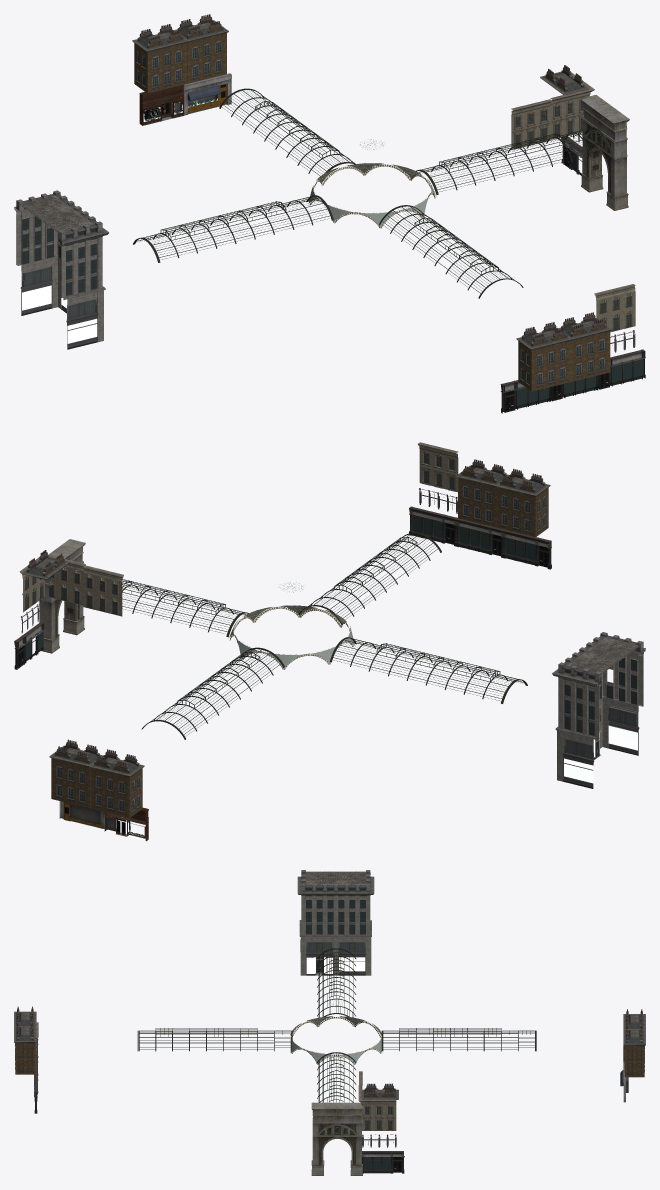
The picture shows the model from 3 angles, top to bottom: view 1: azimuth 30°, elevation 25°; view 2: azimuth 150°, elevation 25°; view 3: azimuth 270°, elevation 25°; orthographic projection. The views are drawn at different scales.
Visible parts, largest first — view 1: LOD_1_Group_0_Sub_1__sm0012_arcadegate01_A_Mat, LOD_1_Group_0_Sub_1__building_new_02.002, LOD_1_Group_0_Sub_1__buildingBrick01_B.002, LOD_1_Group_0_Sub_1__buildingBrick01_B, LOD_1_Group_0_Sub_1__building_new_02, LOD_1_Group_0_Sub_2__glass.006, LOD_1_Group_0_Sub_2__glass.003, LOD_1_Group_0_Sub_1__buildingBrick01_B.001, LOD_1_Group_0_Sub_1__buildingBrick01_B.003, LOD_1_Group_0_Sub_2__glass.014, LOD_1_Group_0_Sub_2__glass.011, LOD_1_Group_0_Sub_1__building_new_02.001 (+14 smaller); view 2: LOD_1_Group_0_Sub_1__building_new_02.002, LOD_1_Group_0_Sub_1__buildingBrick01_B, LOD_1_Group_0_Sub_1__buildingBrick01_B.002, LOD_1_Group_0_Sub_1__building_new_02, LOD_1_Group_0_Sub_2__glass.006, LOD_1_Group_0_Sub_1__buildingBrick01_B.001, LOD_1_Group_0_Sub_1__buildingBrick01_B.003, LOD_1_Group_0_Sub_1__sm0012_arcadegate01_A_Mat, LOD_1_Group_0_Sub_2__glass.011, LOD_1_Group_0_Sub_1__sm0007_buildingOld01_D_Mat, LOD_1_Group_0_Sub_2__glass.014, LOD_1_Group_0_Sub_1__sm0007_buildingOld01_D_Mat.001 (+14 smaller); view 3: LOD_1_Group_0_Sub_1__sm0012_arcadegate01_A_Mat, LOD_1_Group_0_Sub_1__building_new_02.002, LOD_1_Group_0_Sub_1__building_new_02, LOD_1_Group_0_Sub_2__glass.011, LOD_1_Group_0_Sub_2__glass.014, LOD_1_Group_0_Sub_1__building_new_02.001, LOD_1_Group_0_Sub_2__glass.006, LOD_1_Group_0_Sub_1__sm0007_buildingOld01_D_Mat.001, LOD_1_Group_0_Sub_1__buildingBrick01_B.001, LOD_1_Group_0_Sub_1__buildingBrick01_B.003, LOD_1_Group_0_Sub_2__glass.003, LOD_1_Group_0_Sub_2__sm0010_arcaderoof_A_Mat (+5 smaller).
Boxes of the visible parts, <box> form: LOD_1_Group_0_Sub_1__sm0012_arcadegate01_A_Mat: <box>581,94,629,210</box>; LOD_1_Group_0_Sub_1__building_new_02.002: <box>16,211,103,342</box>; LOD_1_Group_0_Sub_1__buildingBrick01_B.002: <box>516,322,572,391</box>; LOD_1_Group_0_Sub_1__buildingBrick01_B: <box>132,24,188,93</box>; LOD_1_Group_0_Sub_1__building_new_02: <box>20,208,98,323</box>; LOD_1_Group_0_Sub_2__glass.006: <box>133,200,313,262</box>; LOD_1_Group_0_Sub_2__glass.003: <box>416,132,591,195</box>; LOD_1_Group_0_Sub_1__buildingBrick01_B.001: <box>174,14,228,83</box>; LOD_1_Group_0_Sub_1__buildingBrick01_B.003: <box>558,312,612,381</box>; LOD_1_Group_0_Sub_2__glass.014: <box>390,214,523,298</box>; LOD_1_Group_0_Sub_2__glass.011: <box>231,97,355,176</box>; LOD_1_Group_0_Sub_1__building_new_02.001: <box>14,190,109,299</box>; LOD_1_Group_0_Sub_1__building_new_02.002: <box>557,652,643,781</box>; LOD_1_Group_0_Sub_1__buildingBrick01_B: <box>89,749,144,817</box>; LOD_1_Group_0_Sub_1__buildingBrick01_B.002: <box>495,468,550,536</box>; LOD_1_Group_0_Sub_1__building_new_02: <box>562,649,639,762</box>; LOD_1_Group_0_Sub_2__glass.006: <box>350,642,527,703</box>; LOD_1_Group_0_Sub_1__buildingBrick01_B.001: <box>49,739,103,808</box>; LOD_1_Group_0_Sub_1__buildingBrick01_B.003: <box>456,459,509,527</box>; LOD_1_Group_0_Sub_1__sm0012_arcadegate01_A_Mat: <box>39,539,85,653</box>; LOD_1_Group_0_Sub_2__glass.011: <box>153,647,284,731</box>; LOD_1_Group_0_Sub_1__sm0007_buildingOld01_D_Mat: <box>418,442,458,513</box>; LOD_1_Group_0_Sub_2__glass.014: <box>310,532,441,616</box>; LOD_1_Group_0_Sub_1__sm0007_buildingOld01_D_Mat.001: <box>19,555,85,612</box>; LOD_1_Group_0_Sub_1__sm0012_arcadegate01_A_Mat: <box>311,1102,363,1175</box>; LOD_1_Group_0_Sub_1__building_new_02.002: <box>300,895,371,975</box>; LOD_1_Group_0_Sub_1__building_new_02: <box>300,888,366,955</box>; LOD_1_Group_0_Sub_2__glass.011: <box>381,1028,518,1051</box>; LOD_1_Group_0_Sub_2__glass.014: <box>137,1028,274,1051</box>; LOD_1_Group_0_Sub_1__building_new_02.001: <box>297,870,374,936</box>; LOD_1_Group_0_Sub_2__glass.006: <box>317,948,356,1016</box>; LOD_1_Group_0_Sub_1__sm0007_buildingOld01_D_Mat.001: <box>358,1085,396,1130</box>; LOD_1_Group_0_Sub_1__buildingBrick01_B.001: <box>623,1024,645,1077</box>; LOD_1_Group_0_Sub_1__buildingBrick01_B.003: <box>14,1021,35,1074</box>; LOD_1_Group_0_Sub_2__glass.003: <box>317,1052,356,1102</box>; LOD_1_Group_0_Sub_2__sm0010_arcaderoof_A_Mat: <box>290,998,382,1064</box>.
Bounding box in the file's own units: 12146 × 2406 × 15094.
